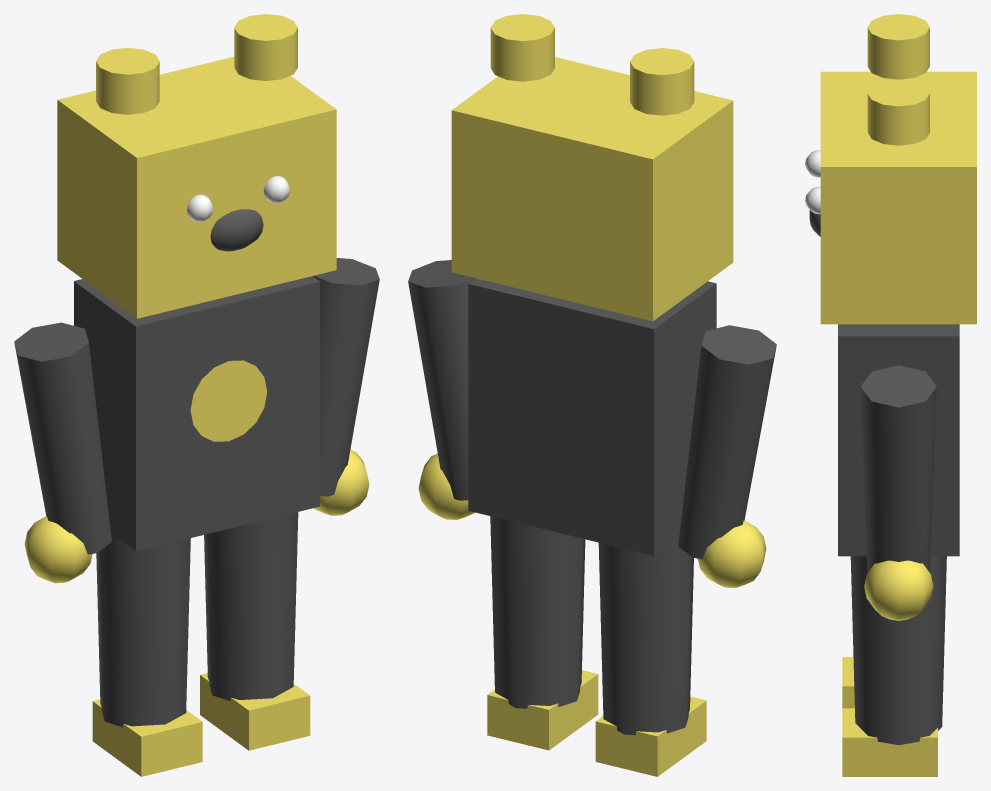
The model's file is bearbrick.glb.
3 views of the same model, side by side, from view 1: azimuth 30°, elevation 25°; view 2: azimuth 150°, elevation 25°; view 3: azimuth 270°, elevation 25° (orthographic). The views are drawn at different scales.
Bounding box in the file's own units: 0.2329 × 0.43 × 0.099.
